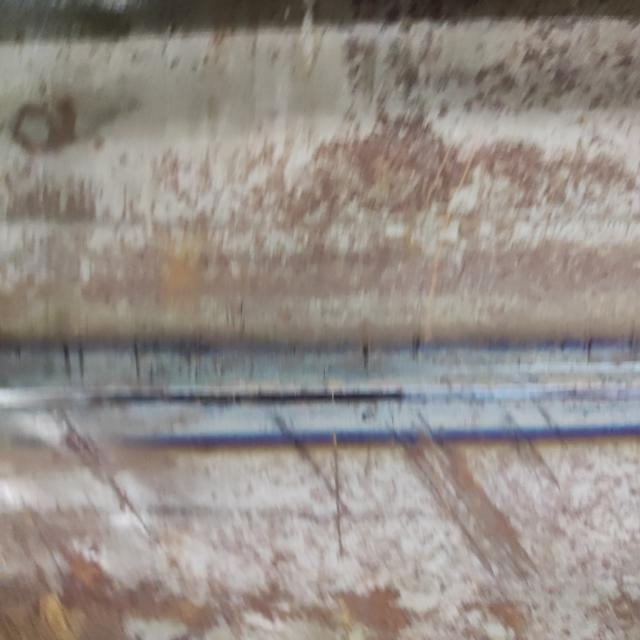seam: (0, 327, 640, 463)
